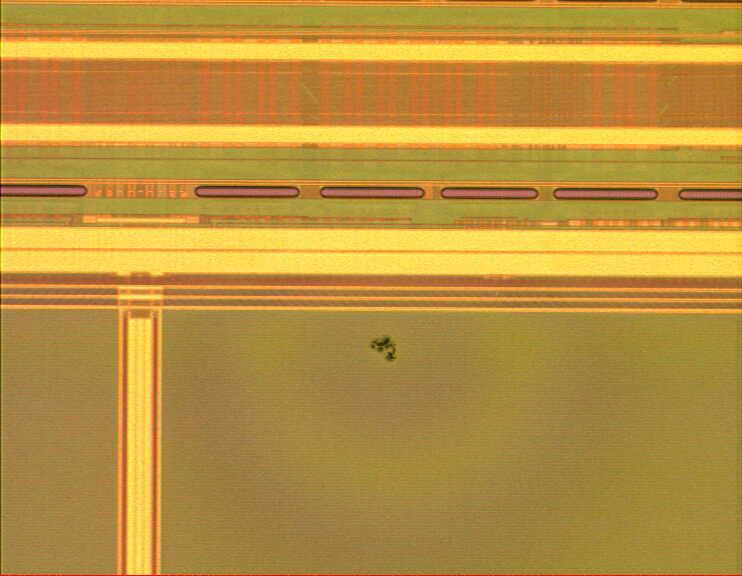PIQ PARTICLE: (366, 333, 402, 367)
